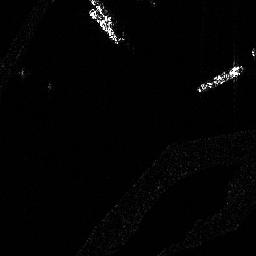ship: (87, 7, 126, 45), (195, 64, 244, 93)
